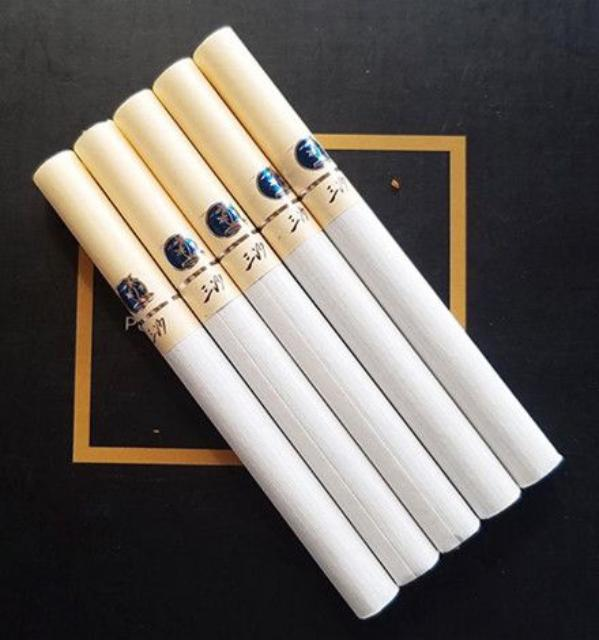Cigarette: (34, 149, 402, 619), (151, 57, 523, 521), (193, 25, 565, 487), (74, 120, 441, 588), (112, 90, 482, 554)
